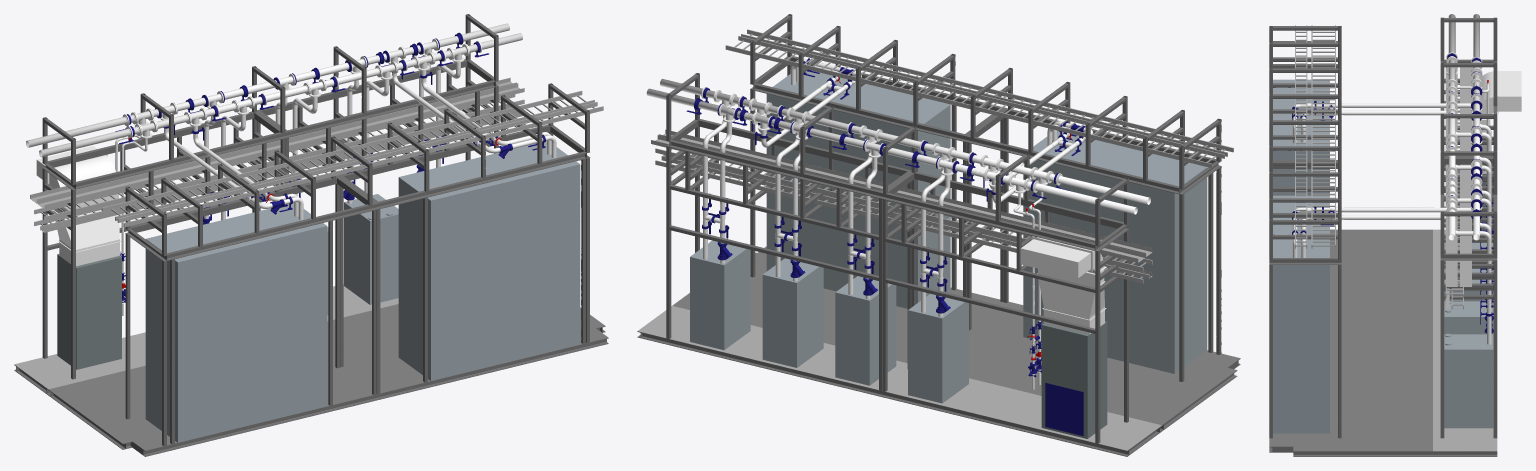
The model's file is Skid_Type_2&3.glb.
The picture shows the model from 3 angles, left to right: view 1: azimuth 30°, elevation 25°; view 2: azimuth 150°, elevation 25°; view 3: azimuth 270°, elevation 25°; orthographic projection. The views are drawn at different scales.
Parts seen in each view (by area): view 1: Untitled.2055, Untitled.2056, Untitled.2724, Untitled.1129, Untitled.2009, Untitled.2005, Untitled.1343, Untitled.1136, Untitled.909, Untitled.333, Untitled.910, Untitled.338 (+24 smaller); view 2: Untitled.2056, Untitled.2055, Untitled.2724, Untitled.333, Untitled.1136, Untitled.1134, Untitled.1135, Untitled.2009, Untitled.1137, Untitled.1129, Untitled.2005, Untitled.889 (+29 smaller); view 3: Untitled.2724, Untitled.2055, Untitled.1135, Untitled.2056, Untitled.333, Untitled.2009, Untitled.1349, Untitled.2005, Untitled.1136, Cylinder.039, Cylinder.040, Untitled.1343 (+32 smaller).
Part boxes in pixels (left/top/right/bottom): Untitled.2055: left=398, top=141, right=580, bottom=380; Untitled.2056: left=145, top=202, right=327, bottom=442; Untitled.2724: left=48, top=304, right=608, bottom=450; Untitled.1129: left=57, top=254, right=121, bottom=369; Untitled.2009: left=102, top=90, right=594, bottom=220; Untitled.2005: left=117, top=102, right=603, bottom=227; Untitled.1343: left=37, top=83, right=524, bottom=208; Untitled.1136: left=344, top=194, right=398, bottom=304; Untitled.909: left=167, top=151, right=586, bottom=260; Untitled.333: left=14, top=284, right=398, bottom=389; Untitled.910: left=76, top=80, right=495, bottom=189; Untitled.338: left=34, top=94, right=524, bottom=220; Untitled.2056: left=1023, top=130, right=1207, bottom=373; Untitled.2055: left=766, top=70, right=950, bottom=308; Untitled.2724: left=672, top=246, right=1240, bottom=425; Untitled.333: left=637, top=306, right=1161, bottom=450; Untitled.1136: left=762, top=258, right=823, bottom=367; Untitled.1134: left=908, top=293, right=968, bottom=403; Untitled.1135: left=690, top=240, right=750, bottom=350; Untitled.2009: left=725, top=36, right=1224, bottom=167; Untitled.1137: left=835, top=276, right=896, bottom=385; Untitled.1129: left=1041, top=321, right=1107, bottom=438; Untitled.2005: left=741, top=29, right=1233, bottom=156; Untitled.889: left=669, top=140, right=1095, bottom=250; Untitled.2724: left=1269, top=229, right=1432, bottom=451; Untitled.2055: left=1273, top=195, right=1329, bottom=433; Untitled.1135: left=1444, top=333, right=1493, bottom=428; Untitled.2056: left=1273, top=79, right=1329, bottom=195; Untitled.333: left=1433, top=229, right=1497, bottom=451; Untitled.2009: left=1311, top=25, right=1335, bottom=248; Untitled.1349: left=1460, top=67, right=1471, bottom=286; Untitled.2005: left=1295, top=25, right=1307, bottom=248; Untitled.1136: left=1444, top=301, right=1493, bottom=334; Cylinder.039: left=1448, top=14, right=1455, bottom=240; Cylinder.040: left=1473, top=14, right=1479, bottom=240; Untitled.1343: left=1445, top=67, right=1457, bottom=286.
Size of the model in its own units: 12.8 by 6.22 by 6.17.
